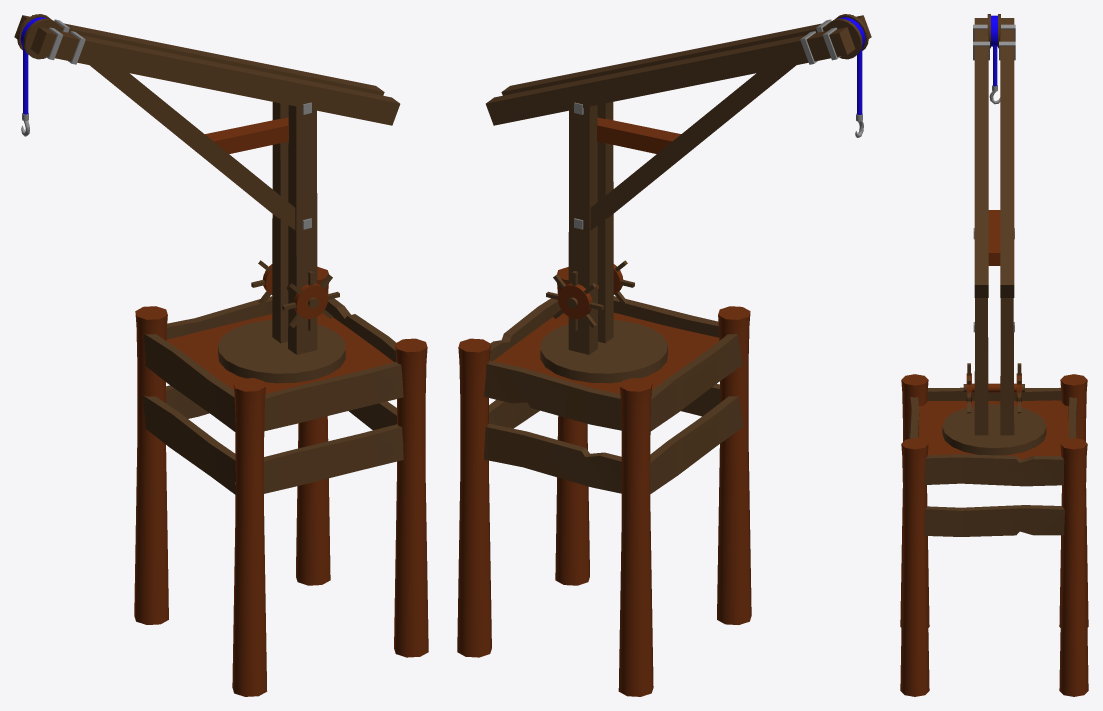
File: crane.fbx
The picture shows the model from 3 angles, left to right: view 1: azimuth 30°, elevation 25°; view 2: azimuth 150°, elevation 25°; view 3: azimuth 270°, elevation 25°; orthographic projection. The views are drawn at different scales.
Visible parts, largest first — view 1: crane; view 2: crane; view 3: crane.
Part boxes in pixels (x1,y1,x2,y2): crane: [14, 14, 428, 696]; crane: [457, 14, 871, 696]; crane: [900, 14, 1088, 696].
Size of the model in its own units: 1367 by 2403 by 749.
